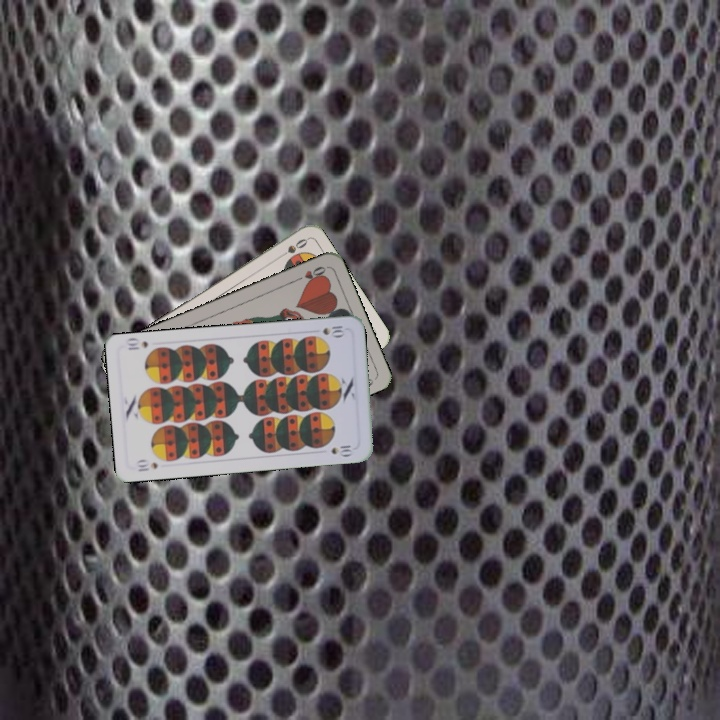HO: (290, 262, 328, 285)
S10: (319, 321, 347, 339), (133, 456, 160, 474)
SO: (273, 234, 310, 262)
